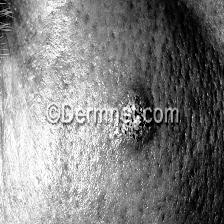Benign Marking or Mole: (121, 99, 145, 141)
